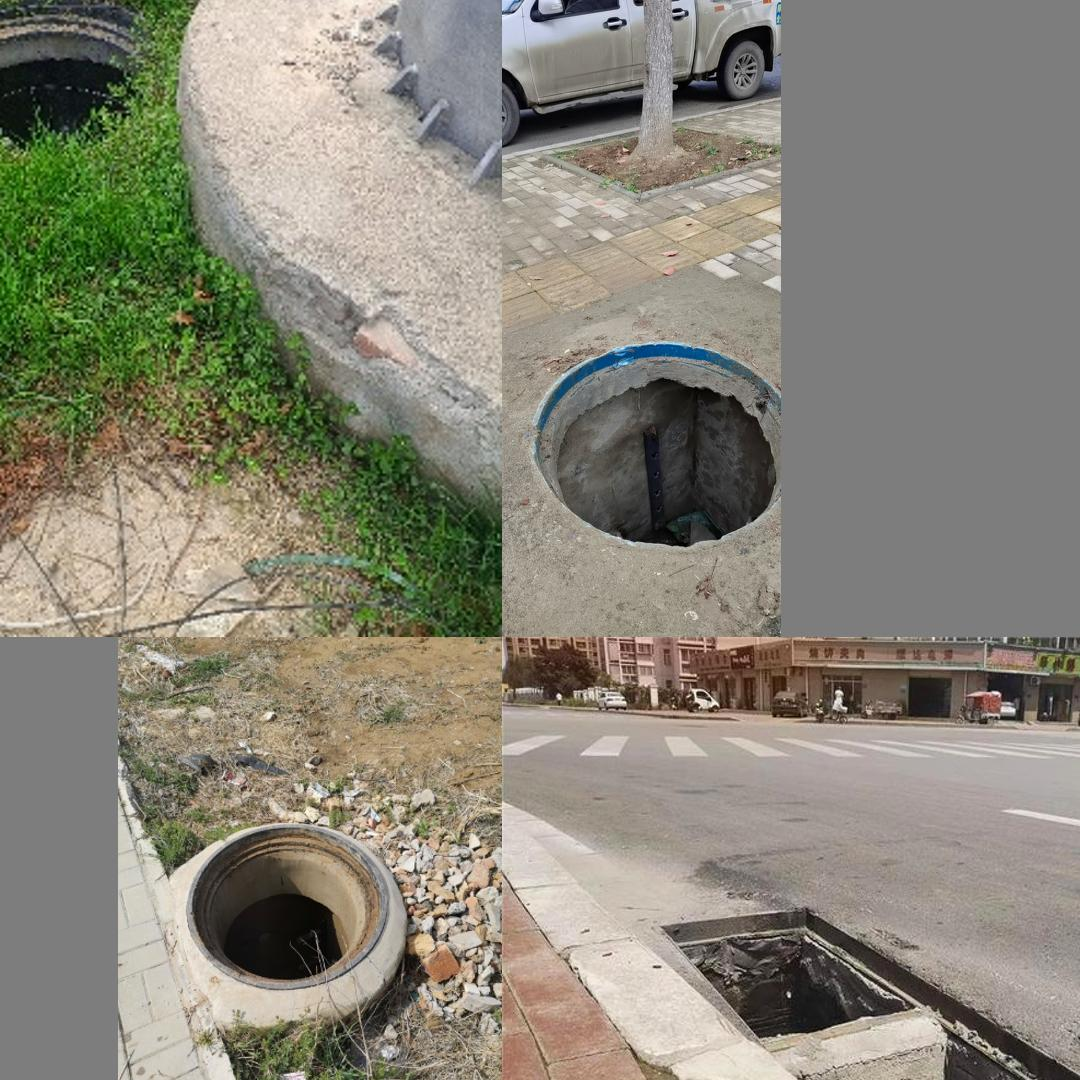lose: (634, 897, 1080, 1080), (530, 342, 780, 551), (182, 814, 404, 983), (0, 0, 169, 158)
